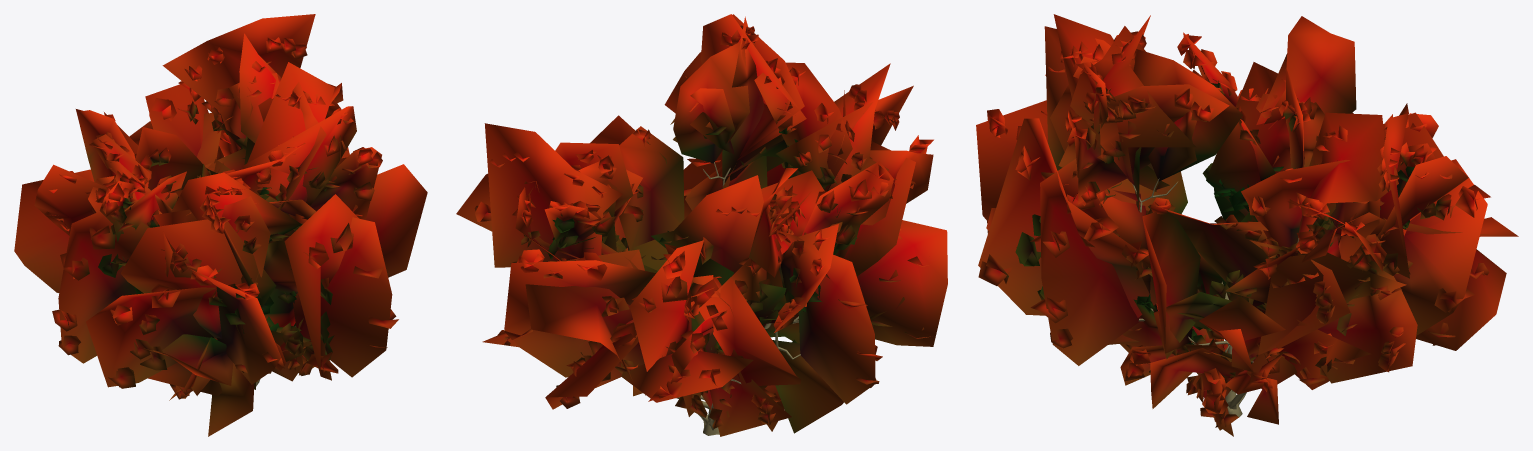
The model's file is RoseBushBigRHEP_B.fbx.
3 renders of one model, left to right at view 1: azimuth 30°, elevation 25°; view 2: azimuth 150°, elevation 25°; view 3: azimuth 270°, elevation 25°, orthographic. The views are drawn at different scales.
Visible parts, largest first — view 1: RBBRHEPB-Leaves_LOD0; view 2: RBBRHEPB-Leaves_LOD0, RBBRHEPB-Branches_LOD0; view 3: RBBRHEPB-Leaves_LOD0, RBBRHEPB-Branches_LOD0.
Boxes of the visible parts, bbox=[...] form: RBBRHEPB-Leaves_LOD0: bbox=[14, 14, 427, 436]; RBBRHEPB-Leaves_LOD0: bbox=[456, 14, 947, 436]; RBBRHEPB-Branches_LOD0: bbox=[676, 162, 800, 435]; RBBRHEPB-Leaves_LOD0: bbox=[976, 14, 1518, 436]; RBBRHEPB-Branches_LOD0: bbox=[1132, 178, 1298, 417].
Size of what is drawn, in the model's own units: 2.77 by 2.63 by 3.16.
